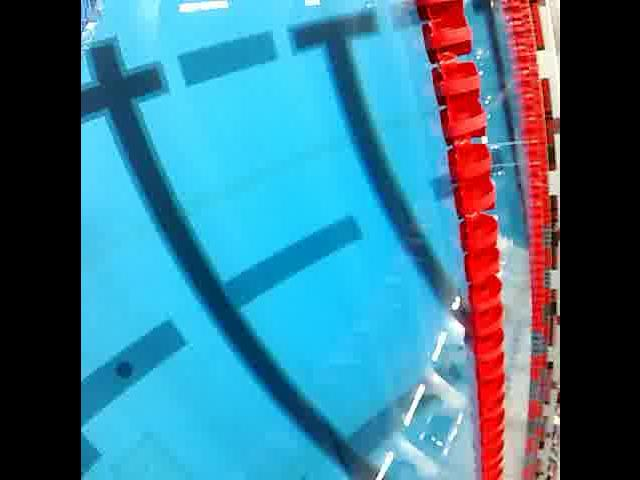Bottle: (80, 0, 146, 61)
